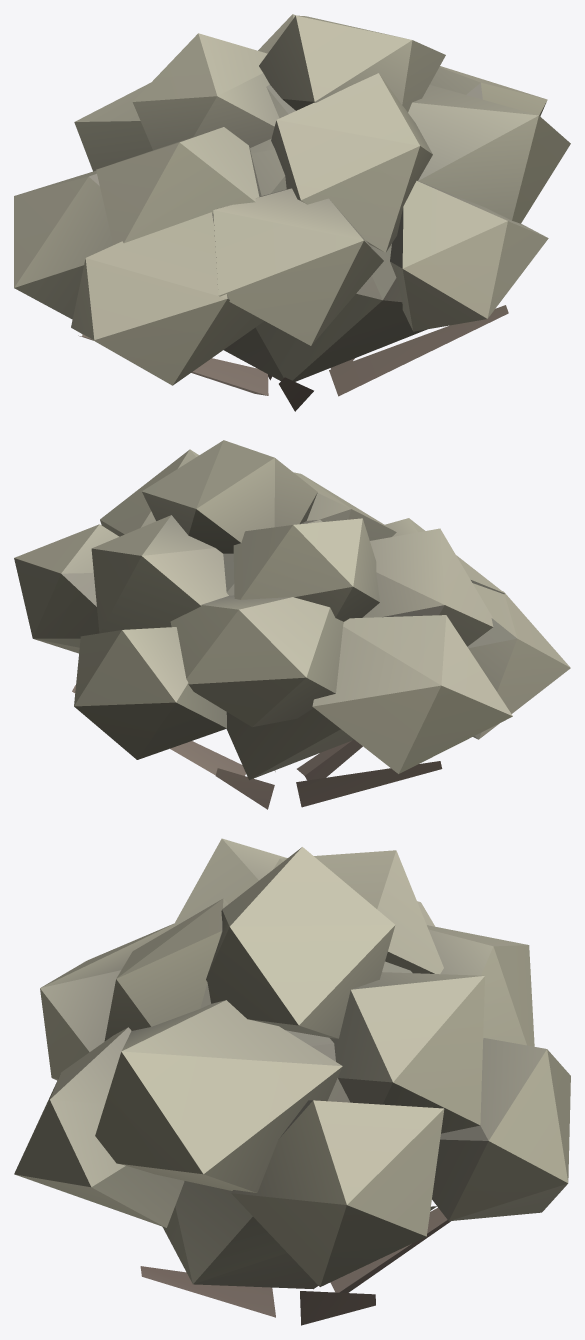
File: sage.glb
3 views of the same model, one above another, from view 1: azimuth 30°, elevation 25°; view 2: azimuth 150°, elevation 25°; view 3: azimuth 270°, elevation 25° (orthographic). The views are drawn at different scales.
Bounding box in the file's own units: 0.9474 × 0.6278 × 0.6936.
